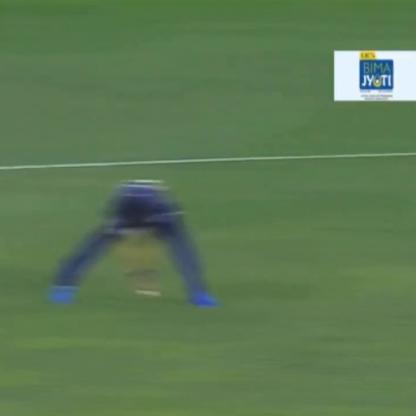ball: (142, 285, 172, 302), (131, 287, 144, 296)
